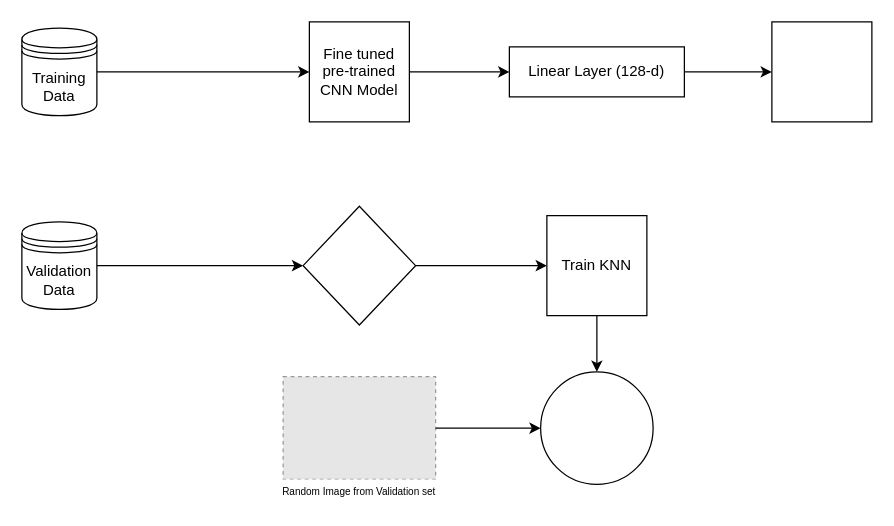
Image size: 894x526. Some labels were removed from this diagram. Grey dashed boxes stand in for pictures. The centre of each missing label's shape, as x and y in pixels:
Extract Features: (359,265)
Obtain nearest neighbors: (596,427)
Triplet Loss: (821,71)
